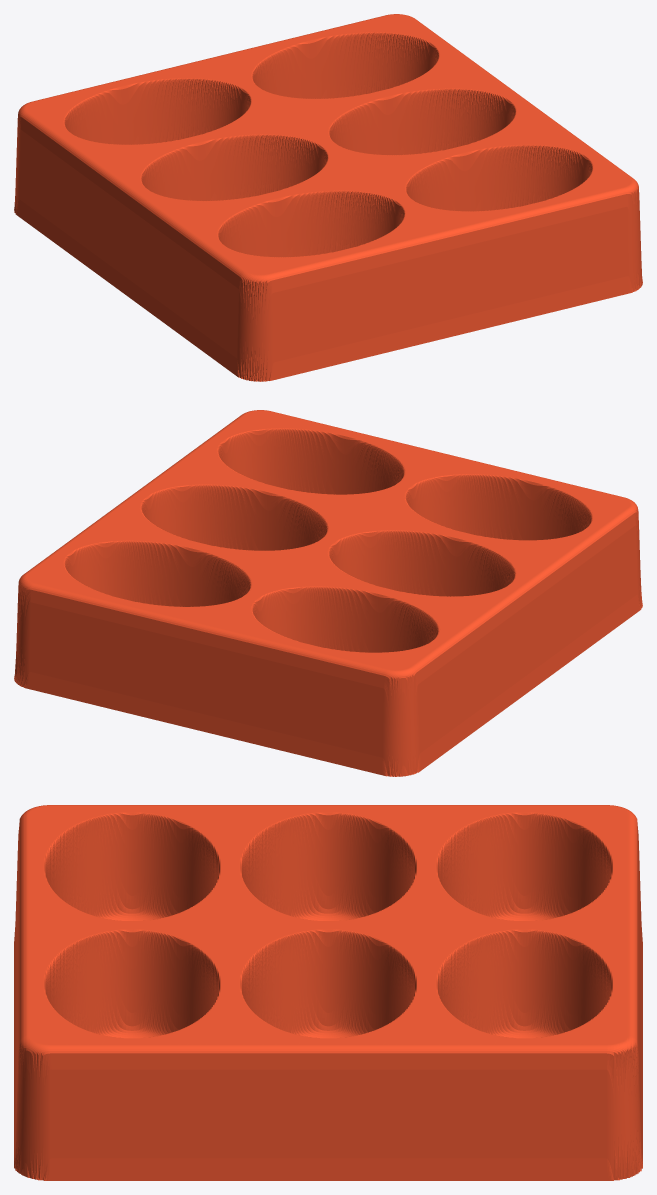
The model's file is mold.glb.
3 views of the same model, one above another, from view 1: azimuth 30°, elevation 25°; view 2: azimuth 150°, elevation 25°; view 3: azimuth 270°, elevation 25° (orthographic). The views are drawn at different scales.
Parts seen in each view (by area): view 1: geometry_0; view 2: geometry_0; view 3: geometry_0.
Boxes of the visible parts, bbox=[...] form: geometry_0: bbox=[14, 14, 642, 381]; geometry_0: bbox=[14, 410, 642, 776]; geometry_0: bbox=[14, 805, 642, 1180].
Size of the model in its own units: 0.1492 by 0.036 by 0.1579.
